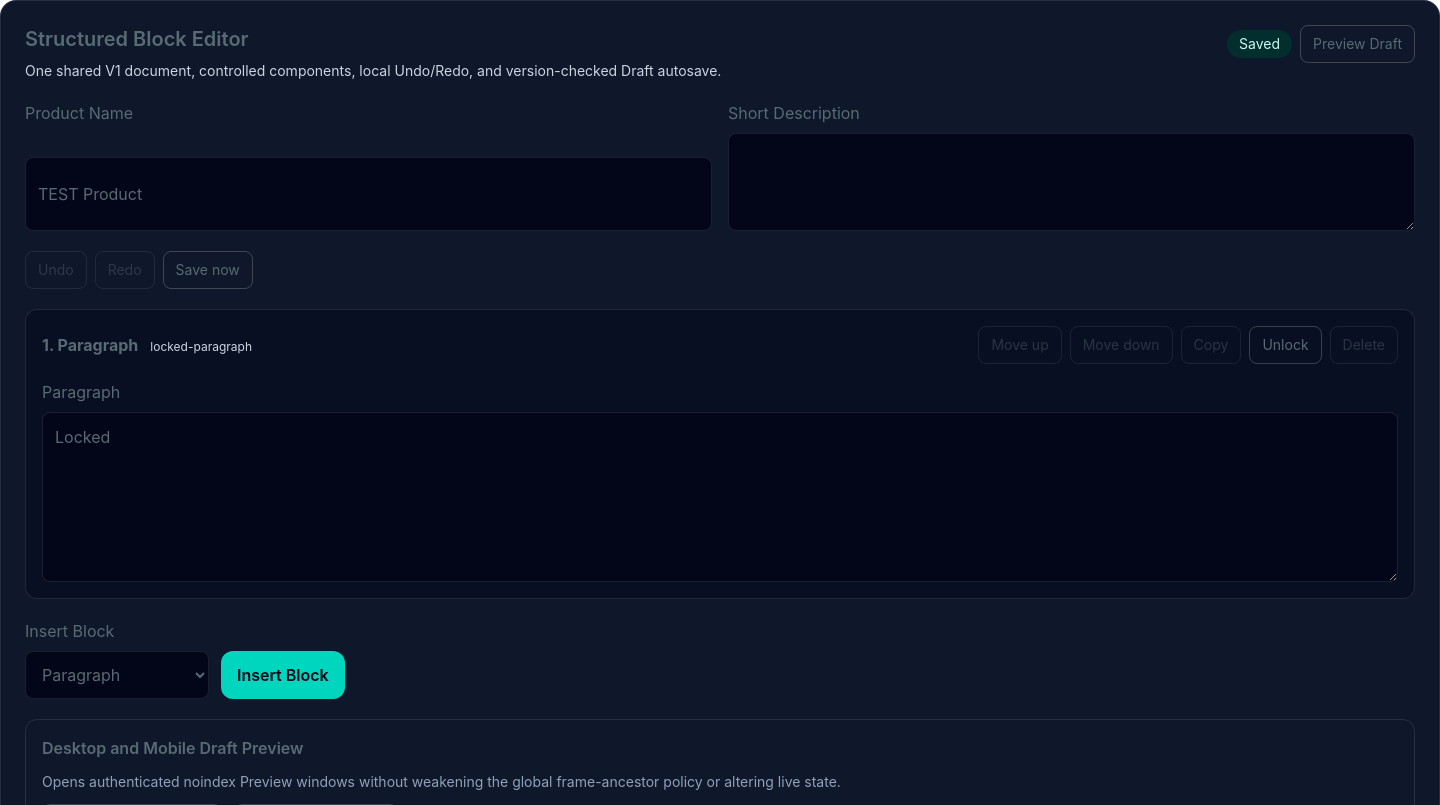
Test: BlockEditor locked Block controls › allows only explicit Unlock before editing, copying, deleting, or dragging
Expected: the text box labelled "Paragraph" is disabled, [42,412,1398,582]
Expected: the button "Copy" is disabled, [1181,326,1241,364]
Click the button "Unlock".
click(1286, 345)  # box [1249,326,1322,364]
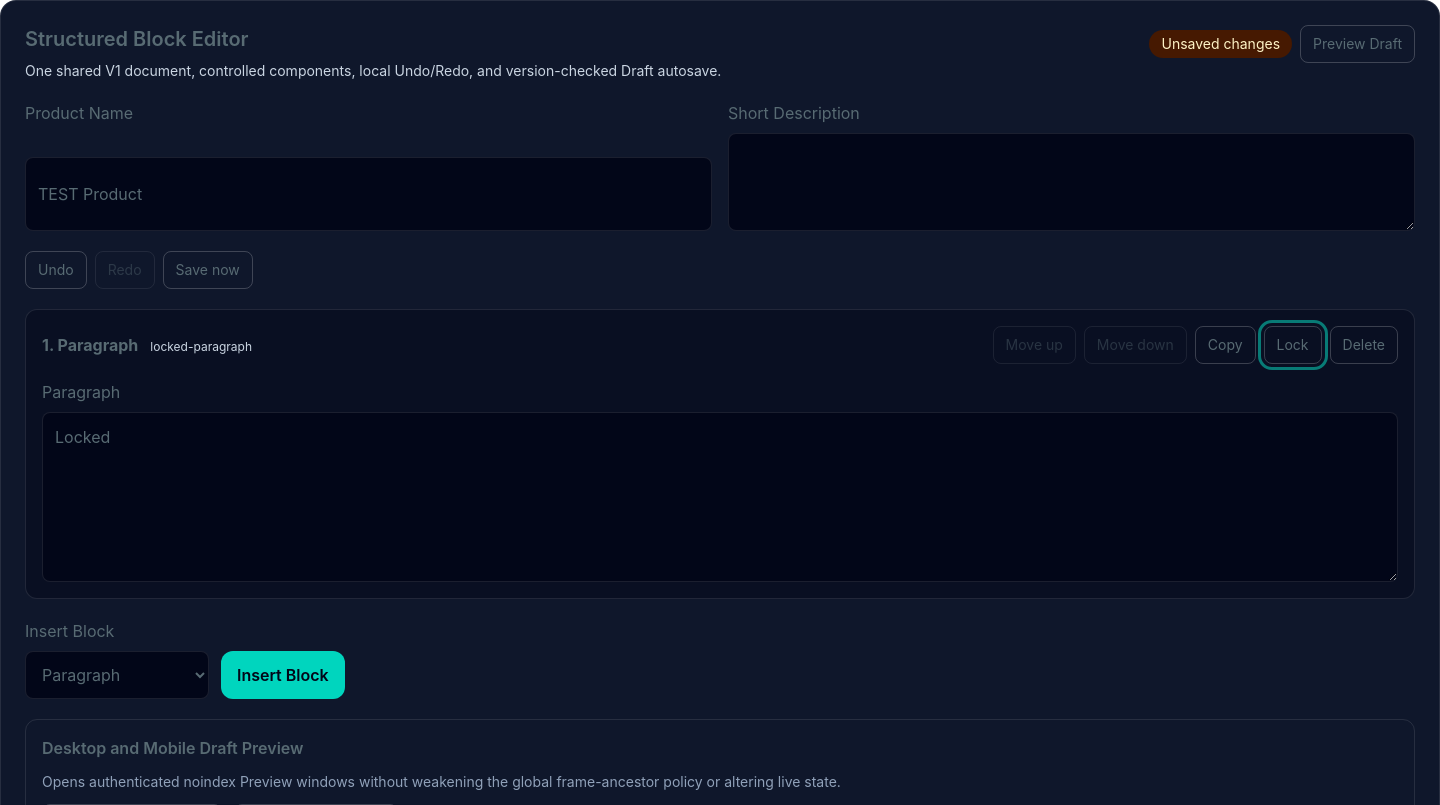
Expected: the text box labelled "Paragraph" is enabled, [42,412,1398,582]
Expected: the button "Copy" is enabled, [1195,326,1256,364]
Expected: the button "Delete" is enabled, [1330,326,1398,364]
